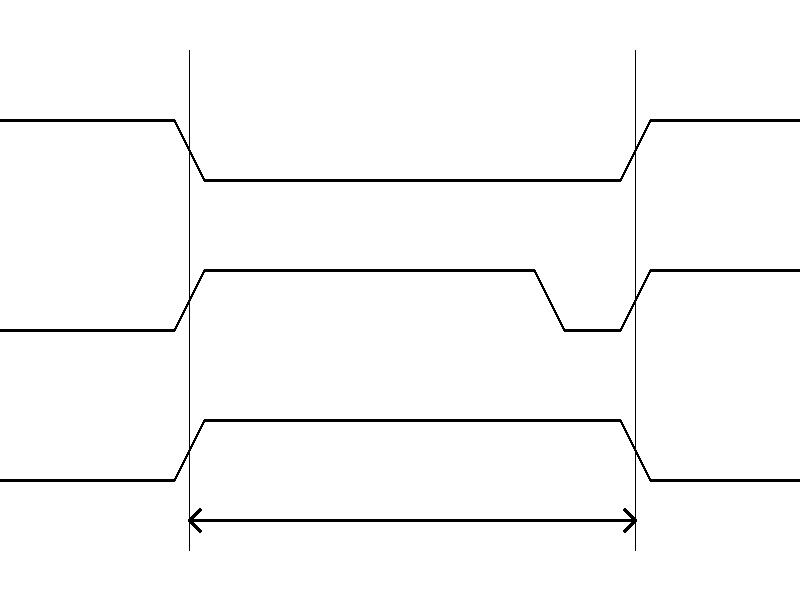double_arrow: (189, 505, 635, 535)
